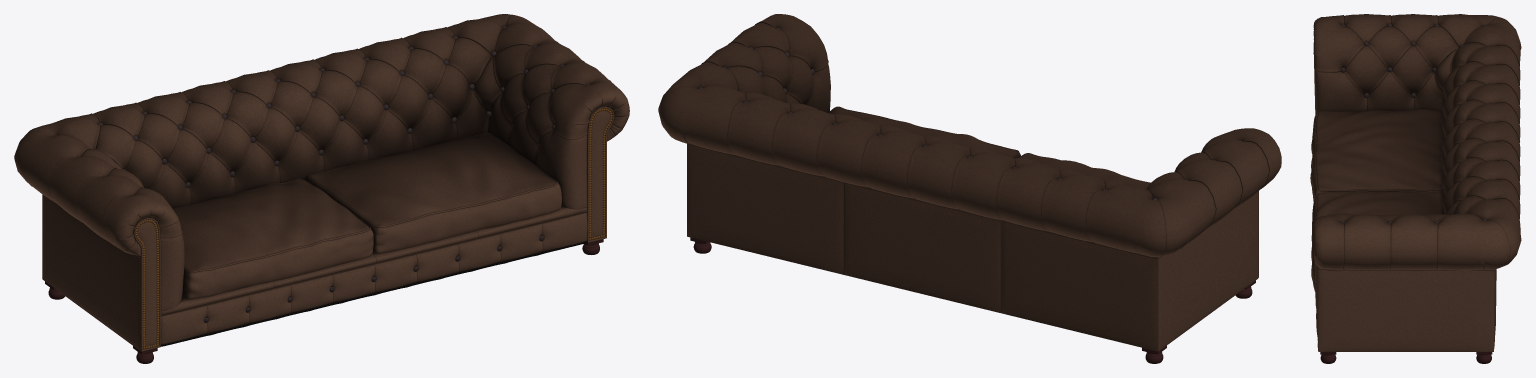
File: sofa.glb
3 renders of one model, left to right at view 1: azimuth 30°, elevation 25°; view 2: azimuth 150°, elevation 25°; view 3: azimuth 270°, elevation 25°, orthographic. The views are drawn at different scales.
Parts seen in each view (by area): view 1: pasted__sofabody2, pasted__sodametals, pasted__sofabuttons, pasted__sofalegs; view 2: pasted__sofabody2, pasted__sofalegs; view 3: pasted__sofabody2, pasted__sofalegs, pasted__sofabuttons.
Boxes of the visible parts, x1,y1,x2,y2 form: pasted__sofabody2: (14,14,629,351); pasted__sodametals: (135,108,612,349); pasted__sofabuttons: (54,26,590,322); pasted__sofalegs: (45,239,603,363); pasted__sofabody2: (658,14,1281,351); pasted__sofalegs: (690,237,1255,363); pasted__sofabody2: (1310,14,1521,351); pasted__sofalegs: (1320,352,1492,363); pasted__sofabuttons: (1341,23,1489,222).
Bounding box in the file's own units: 1215 × 373 × 482.
Materials: 4 (1 with a texture image).
